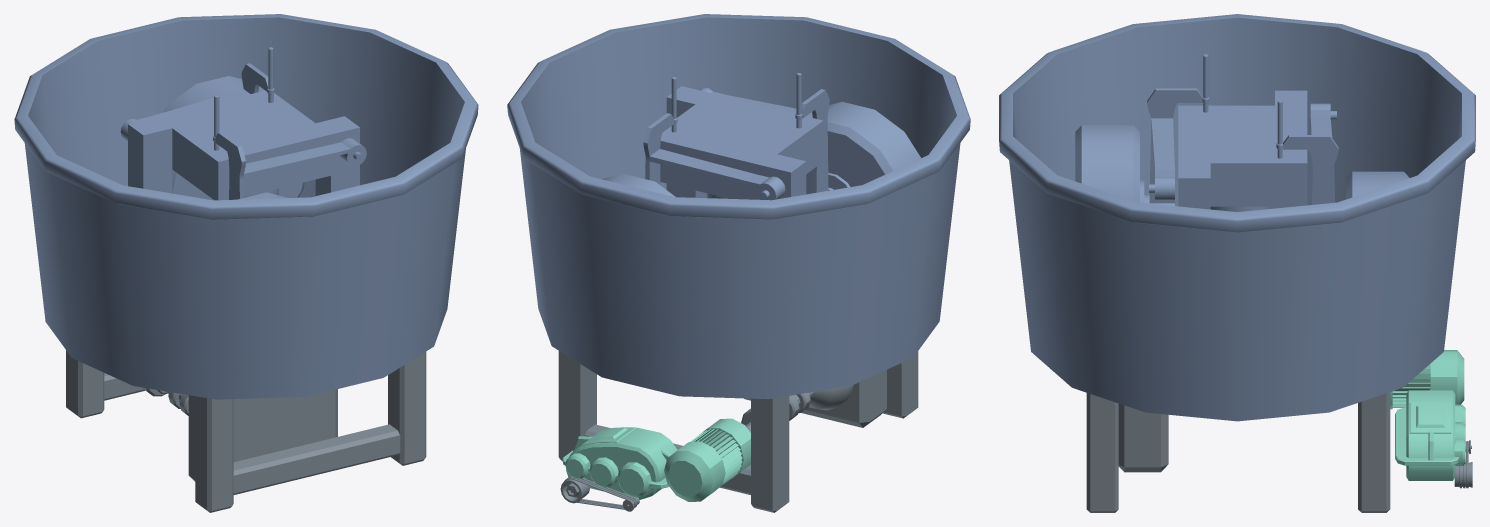
The picture shows the model from 3 angles, left to right: view 1: azimuth 30°, elevation 25°; view 2: azimuth 150°, elevation 25°; view 3: azimuth 270°, elevation 25°; orthographic projection. The views are drawn at different scales.
Visible parts, largest first — view 1: pCylinder75; view 2: pCylinder75; view 3: pCylinder75.
Part boxes in pixels (x1=…): pCylinder75: x1=14, y1=14, x2=478, y2=512; pCylinder75: x1=507, y1=14, x2=970, y2=512; pCylinder75: x1=999, y1=14, x2=1475, y2=512.
Size of the model in its own units: 6.36 by 5.46 by 6.2.
